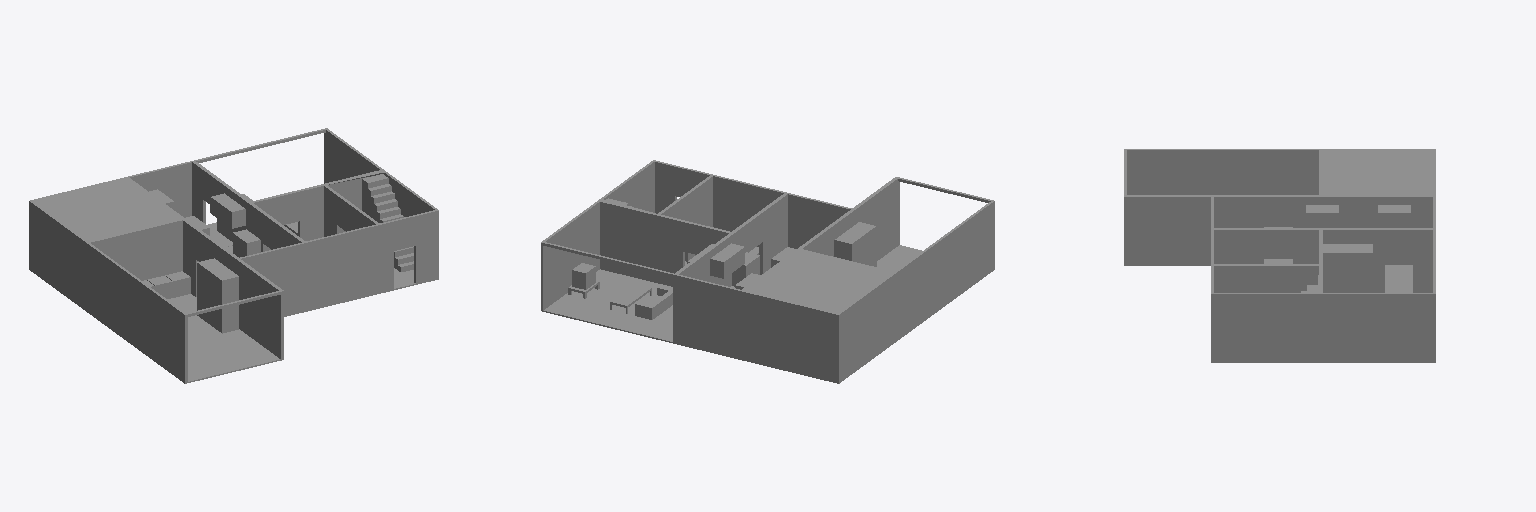
Rendered from second_cut.obj.
3 renders of one model, left to right at view 1: azimuth 30°, elevation 25°; view 2: azimuth 150°, elevation 25°; view 3: azimuth 270°, elevation 25°, orthographic.
Visible parts, largest first — view 1: Cube; view 2: Cube; view 3: Cube.
Part boxes in pixels (left/top/right/bottom): Cube: left=29, top=128, right=438, bottom=383; Cube: left=541, top=160, right=994, bottom=383; Cube: left=1124, top=149, right=1435, bottom=362.
Bounding box in the file's own units: 28.65 × 6.33 × 26.02.